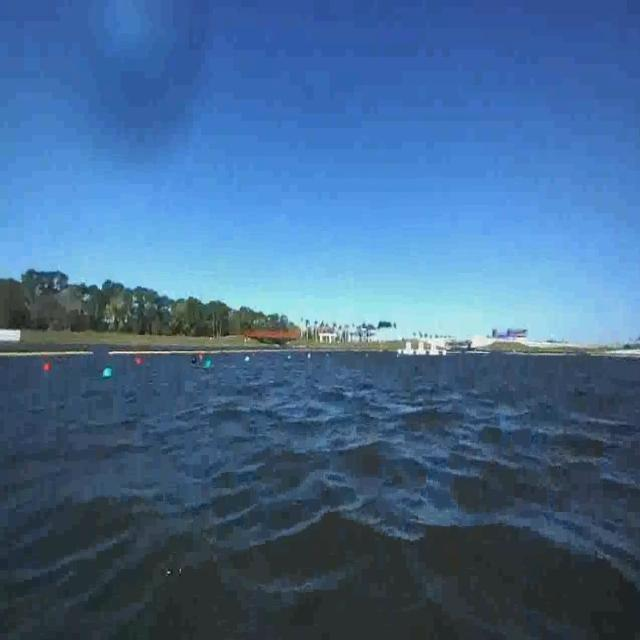green-buoy: (100, 367, 112, 378)
red-buoy: (42, 358, 54, 374), (135, 354, 146, 366)
